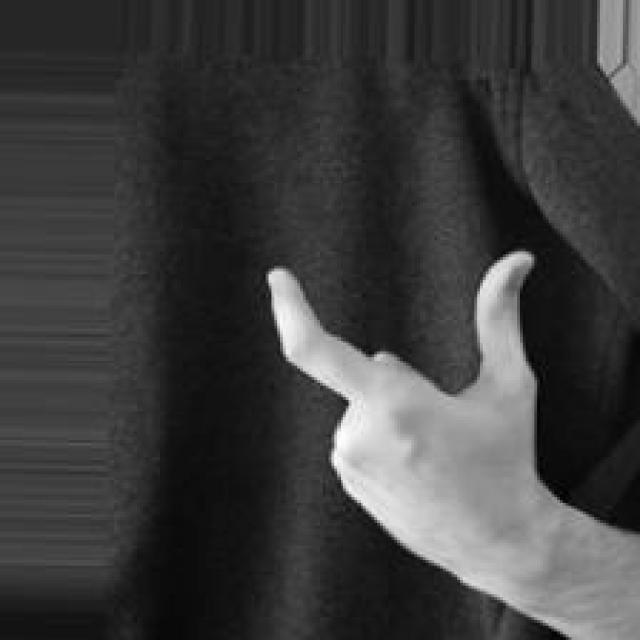U: (260, 247, 552, 606)
